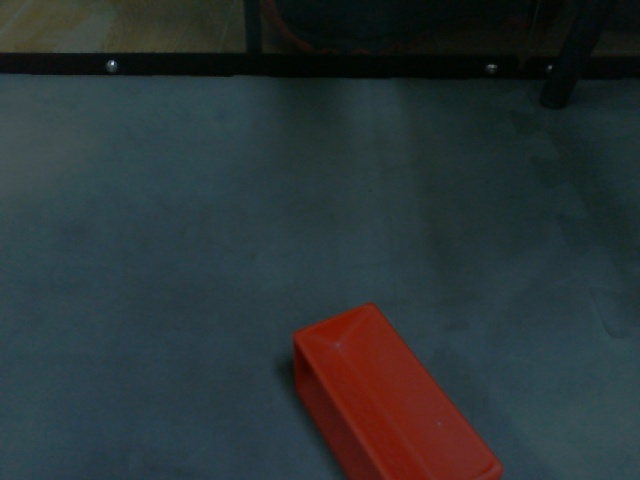RedSample: (288, 298, 506, 480)
